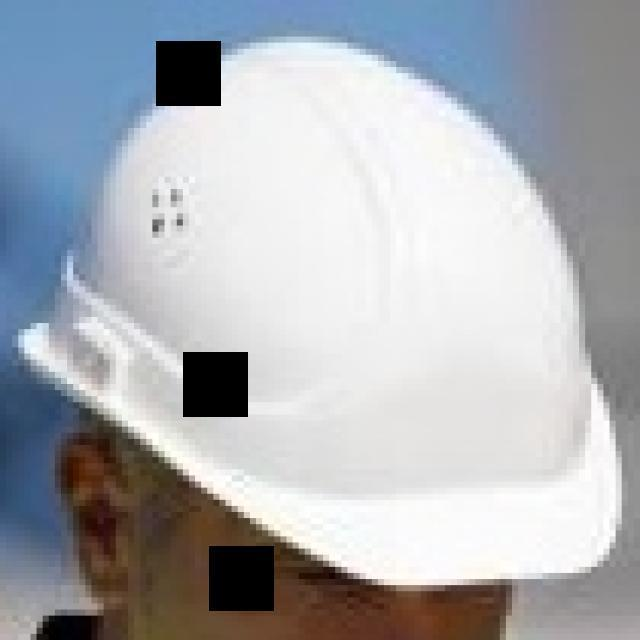white helmet: (26, 33, 626, 591)
